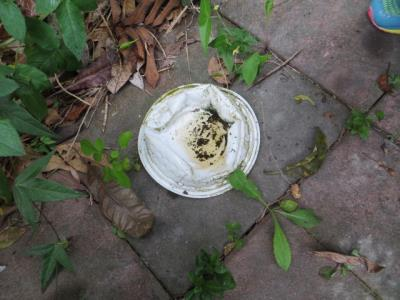plate: (132, 78, 265, 203)
